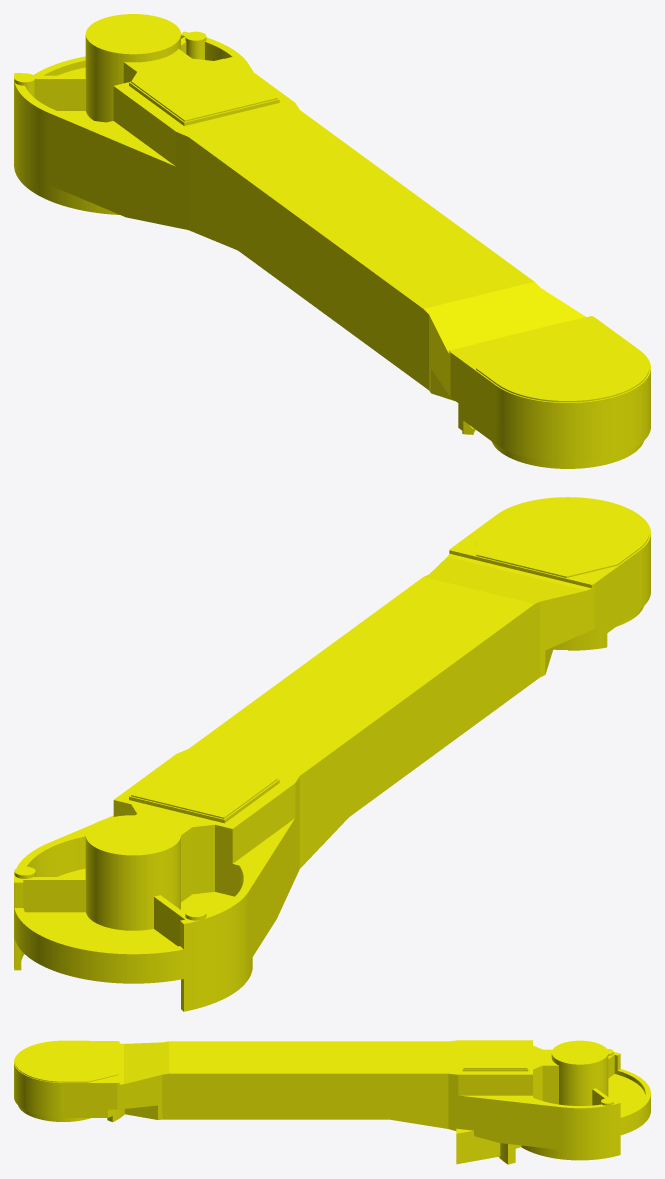
3 renders of one model, top to bottom at view 1: azimuth 30°, elevation 25°; view 2: azimuth 150°, elevation 25°; view 3: azimuth 270°, elevation 25°, orthographic. The views are drawn at different scales.
Parts seen in each view (by area): view 1: 45M_S305; view 2: 45M_S305; view 3: 45M_S305.
Boxes of the visible parts, bbox=[...] form: 45M_S305: bbox=[14, 14, 650, 468]; 45M_S305: bbox=[14, 497, 650, 1011]; 45M_S305: bbox=[14, 1040, 650, 1164].
Size of the model in its own units: 0.316 by 1.42 by 0.225.
